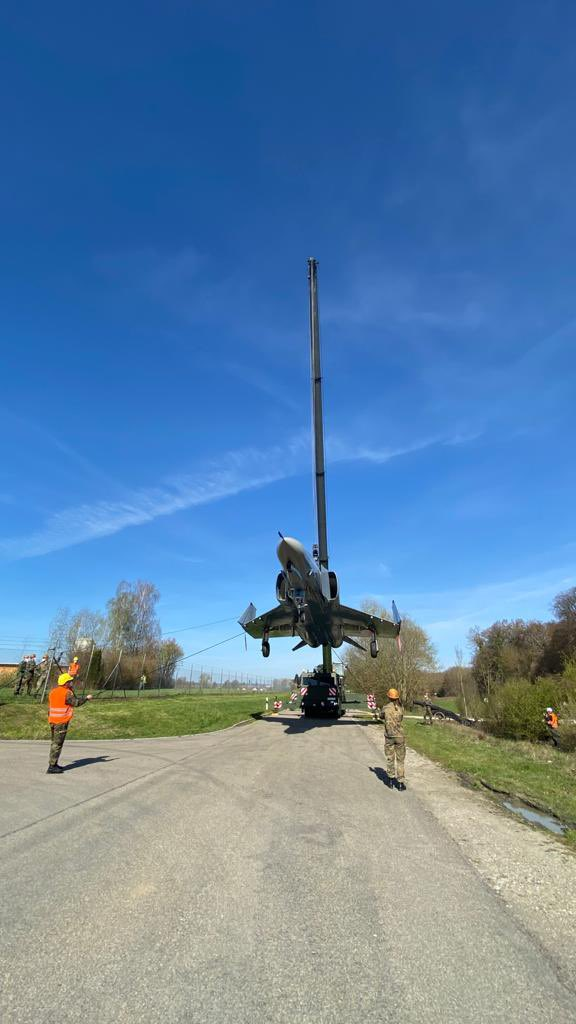F4: (236, 530, 402, 659)
